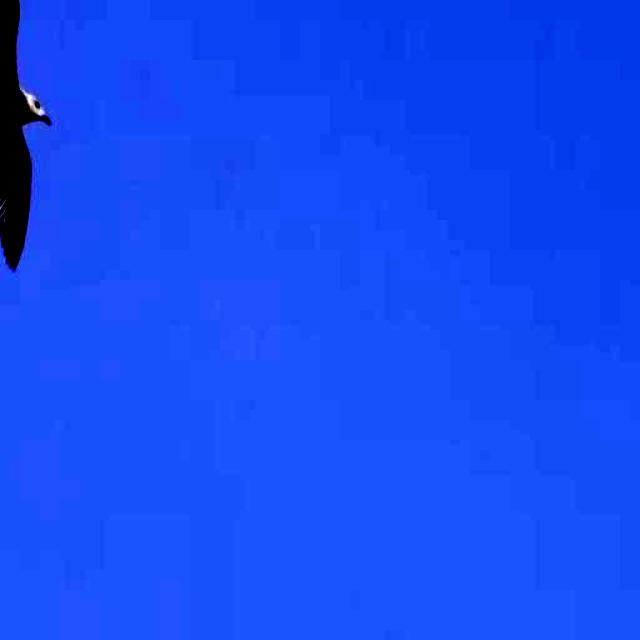airplane: (0, 0, 55, 279)
